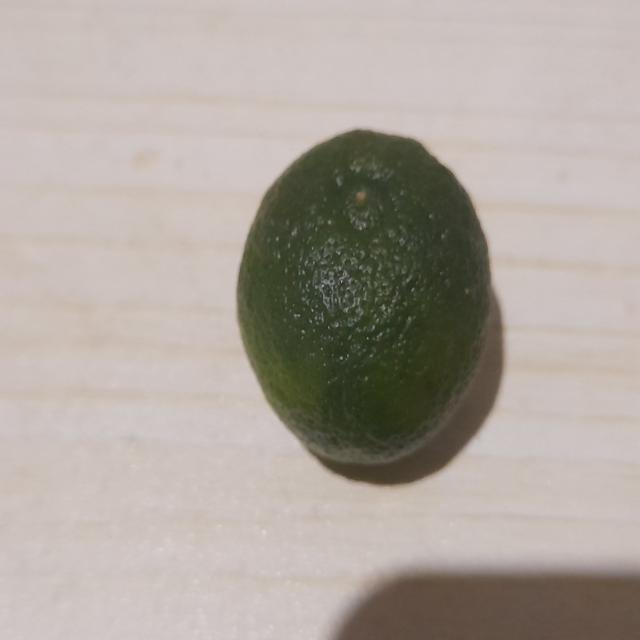heathy: (227, 115, 502, 479)
